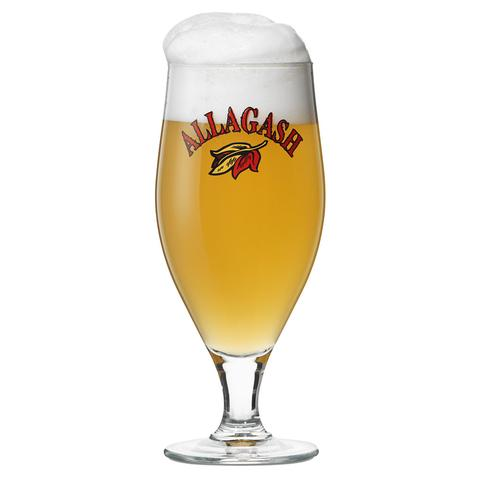Nonrec_Glass: (147, 5, 337, 474)
